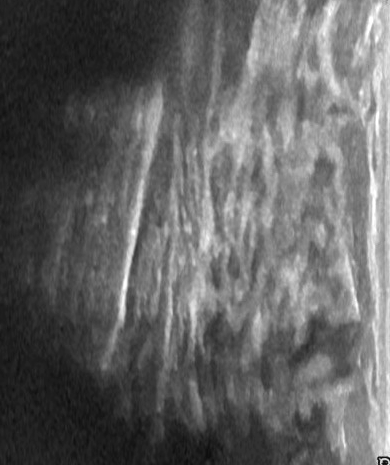Normal: (20, 0, 373, 462)
